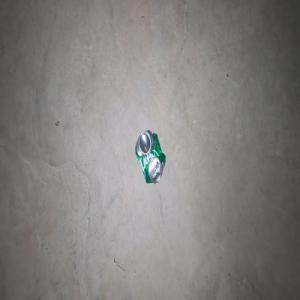SodaCan: (134, 129, 165, 183)
